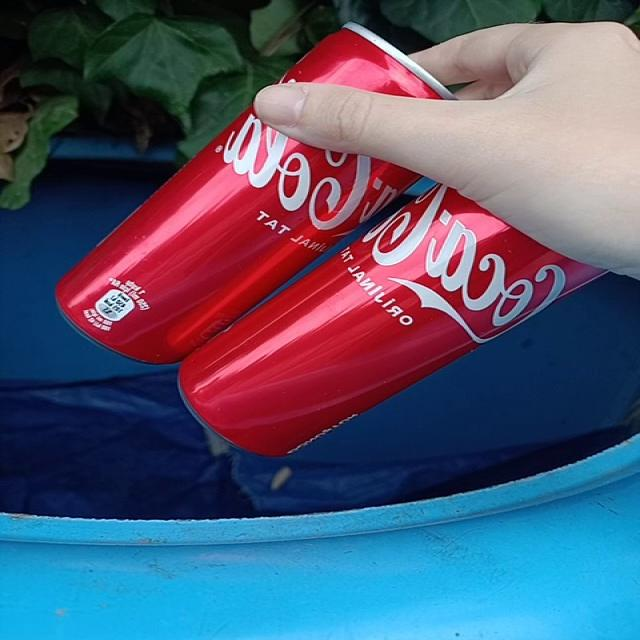bin: (0, 137, 637, 640)
metal: (180, 187, 605, 457), (56, 108, 419, 364), (281, 23, 452, 99)
